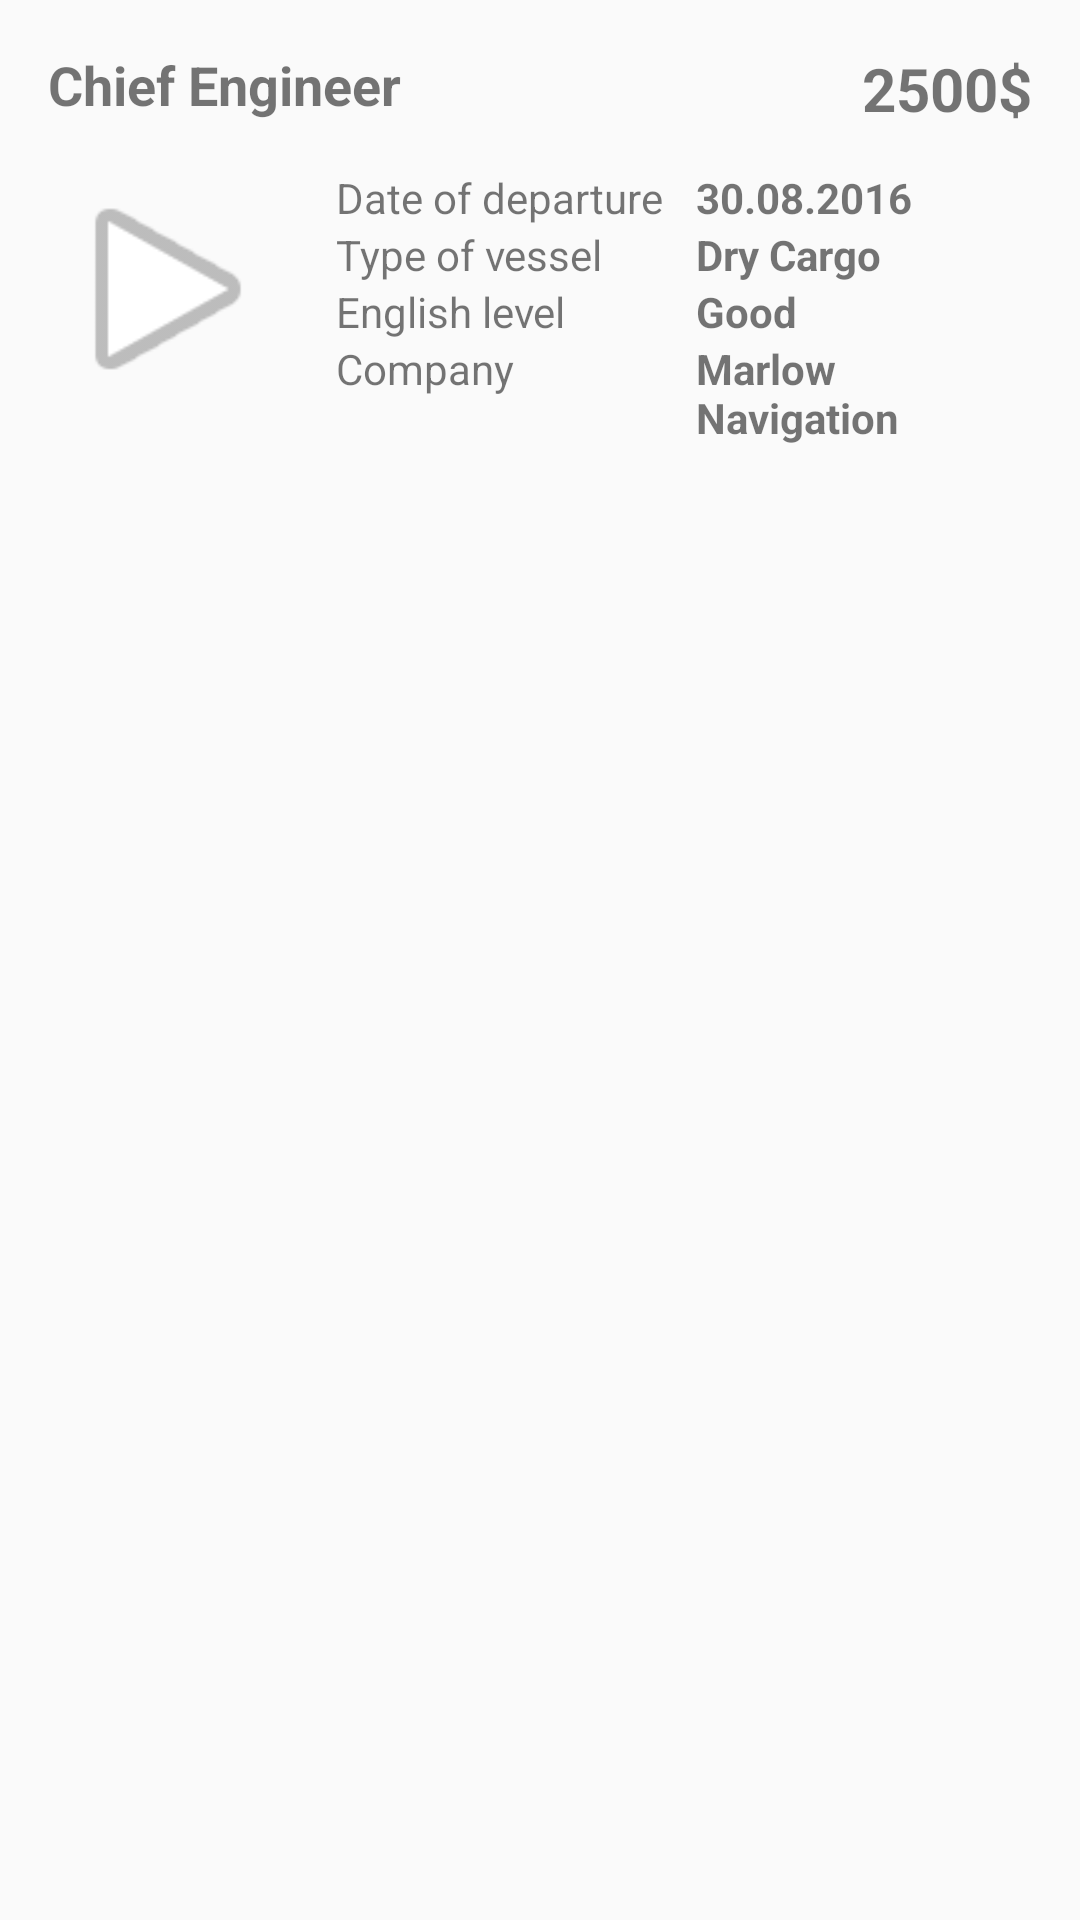

Icons on this 1080px×1920px Android screen, each with the point to tap as (x,y):
play: (168,289)
